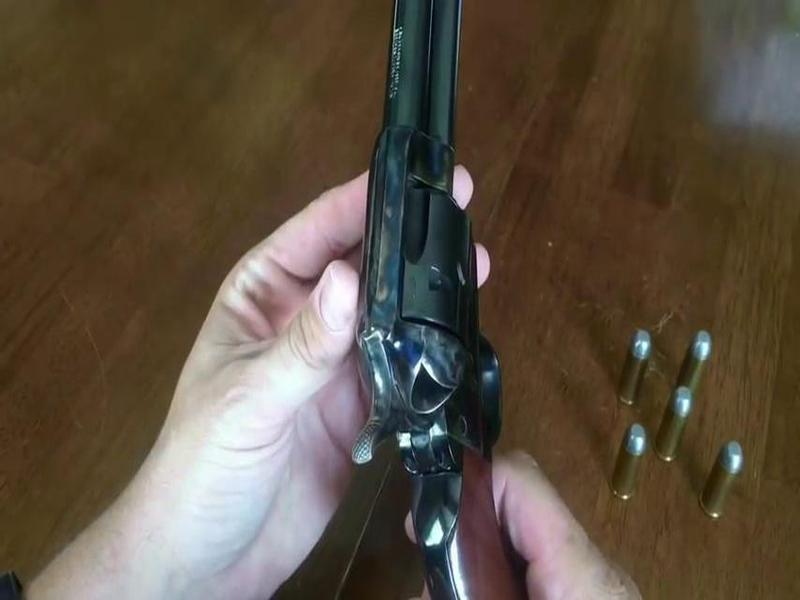Revolver: (326, 14, 556, 574)
